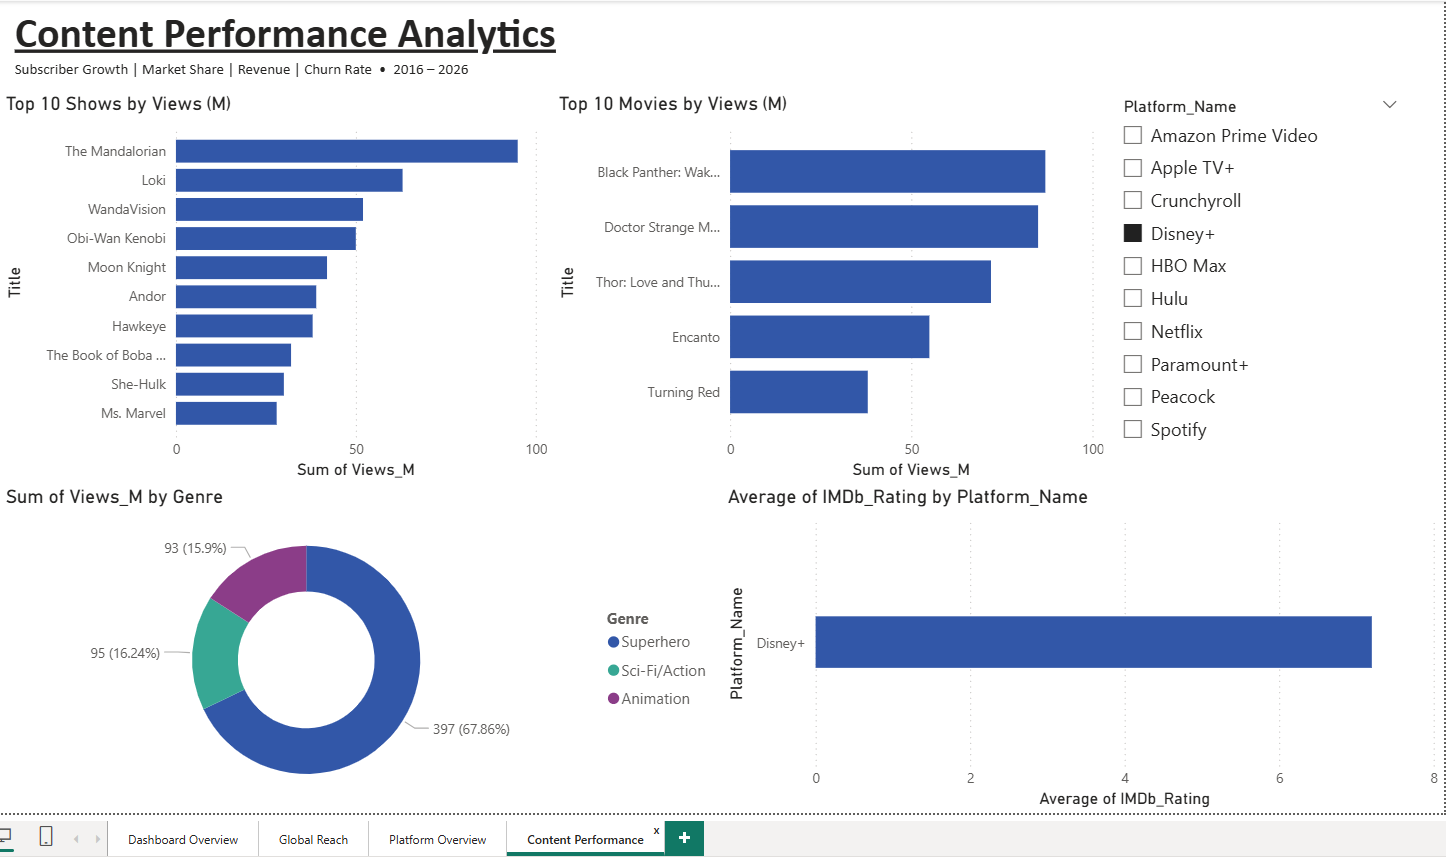

Layout of this report page (visuals, bound fields, positions):
{"tool":"powerbi","page":{"name":"Content Performance","canvas":[1280,720],"ordinal":3},"visuals":[{"type":"clusteredBarChart","title":"Top 10 Shows by Views (M)","fields":{"Category":["Dim_Content.Title"],"Y":["Sum(Dim_Content.Views_M)"]},"box":[0,81.1,490,347.8],"z":0},{"type":"donutChart","fields":{"Category":["Dim_Content.Genre"],"Y":["Sum(Dim_Content.Views_M)"]},"box":[0,428.9,640,291.1],"z":1000},{"type":"clusteredBarChart","fields":{"Category":["Dim_Platforms.Platform_Name"],"Y":["Avg(Dim_Content.IMDb_Rating)"]},"box":[640,428.9,640,291.1],"z":2000},{"type":"slicer","fields":{"Values":["Dim_Platforms.Platform_Name"]},"box":[983.3,81.1,267.8,331.1],"z":3000},{"type":"clusteredBarChart","title":"Top 10 Movies by Views (M)","fields":{"Category":["Dim_Content.Title"],"Y":["Sum(Dim_Content.Views_M)"]},"box":[490,81.1,493.3,347.8],"z":4000},{"type":"textbox","box":[8,0,1272,81],"z":5000}]}

Visuals, with their boxes on the page's 1280x720 design canvas (x1, y1, x2, y2). These are canvas units, not pixel positions in the 1446x857 screenshot, which may show the page scaled, cropped or inside an application window:
"Top 10 Shows by Views (M)" clusteredBarChart: (0, 81, 490, 429)
donutChart - Dim_Content.Genre x Sum(Dim_Content.Views_M): (0, 429, 640, 720)
clusteredBarChart - Dim_Platforms.Platform_Name x Avg(Dim_Content.IMDb_Rating): (640, 429, 1280, 720)
slicer - Dim_Platforms.Platform_Name: (983, 81, 1251, 412)
"Top 10 Movies by Views (M)" clusteredBarChart: (490, 81, 983, 429)
textbox: (8, 0, 1280, 81)
